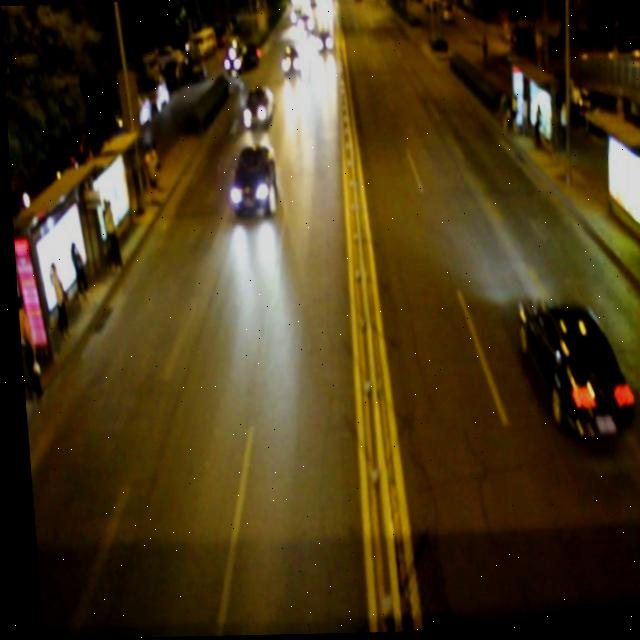car: (514, 290, 629, 440), (224, 138, 277, 220), (239, 82, 274, 130), (278, 40, 302, 77)
